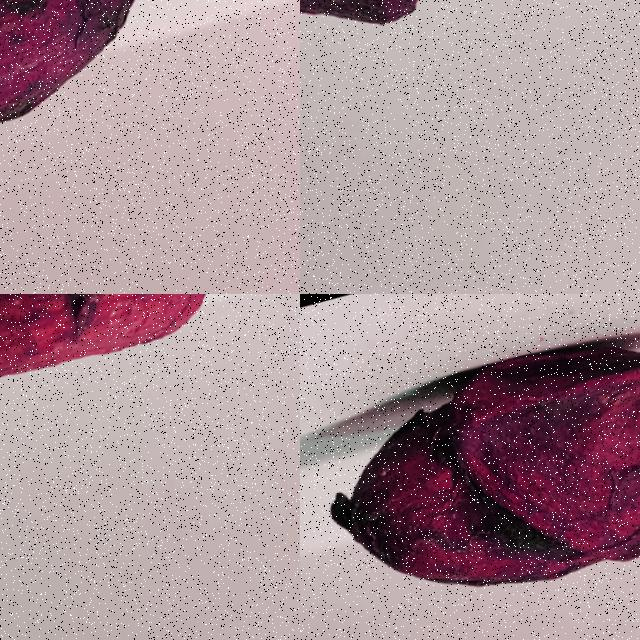Agglomerated_cocoabeans: (300, 294, 639, 639), (0, 294, 299, 473), (300, 0, 615, 110)
Fine_cocoabeans: (0, 0, 283, 233)
